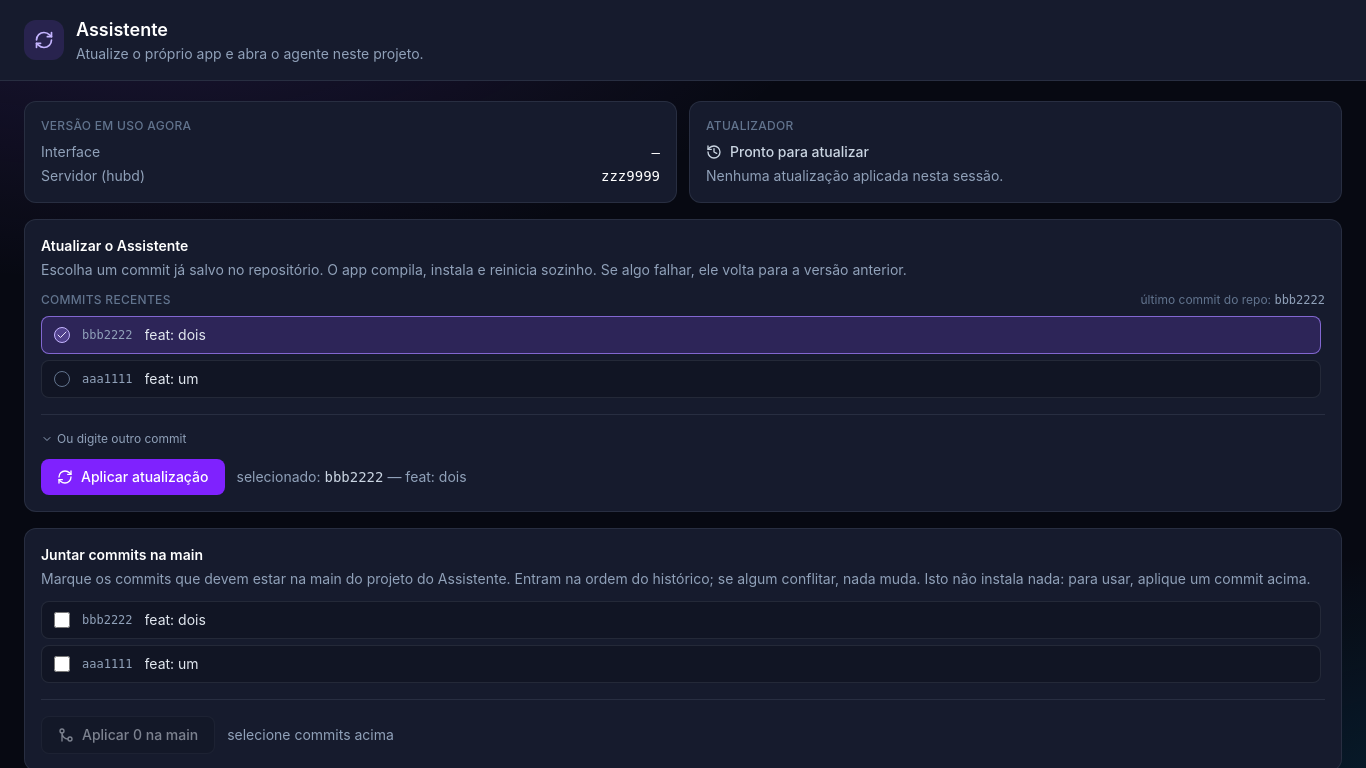
Test: AssistantPanel: juntar commits na main › manda os commits marcados, na ordem em que foram marcados, e avisa o novo topo
This screenshot has width=1366, height=768.
Click the checkbox labelled "bbb2222 feat: dois". click: coordinates (62, 620)
box: x1=54 y1=612 x2=70 y2=628
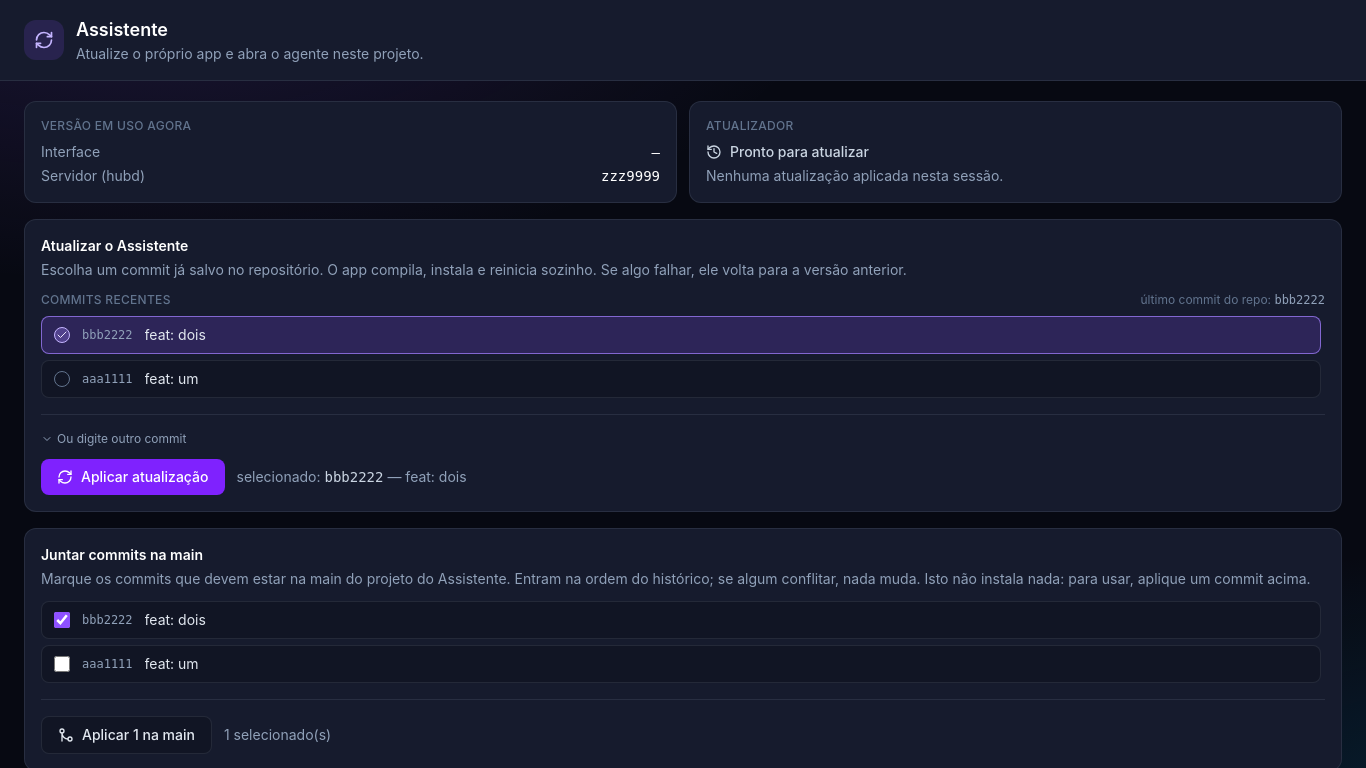
Click the checkbox labelled "aaa1111 feat: um". click: coordinates (62, 664)
box: x1=54 y1=656 x2=70 y2=672
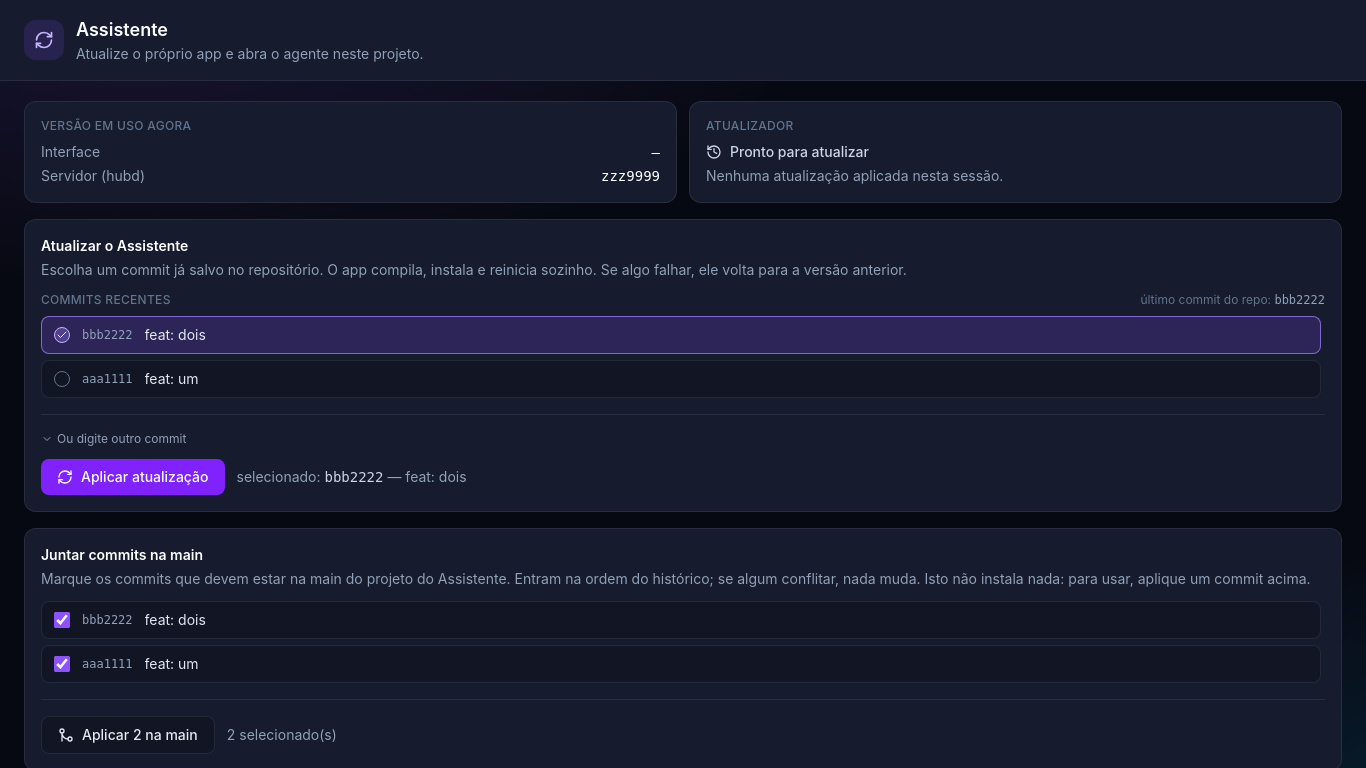
Click the button "Aplicar 2 na main". click: coordinates (128, 735)
box: x1=41 y1=716 x2=215 y2=754
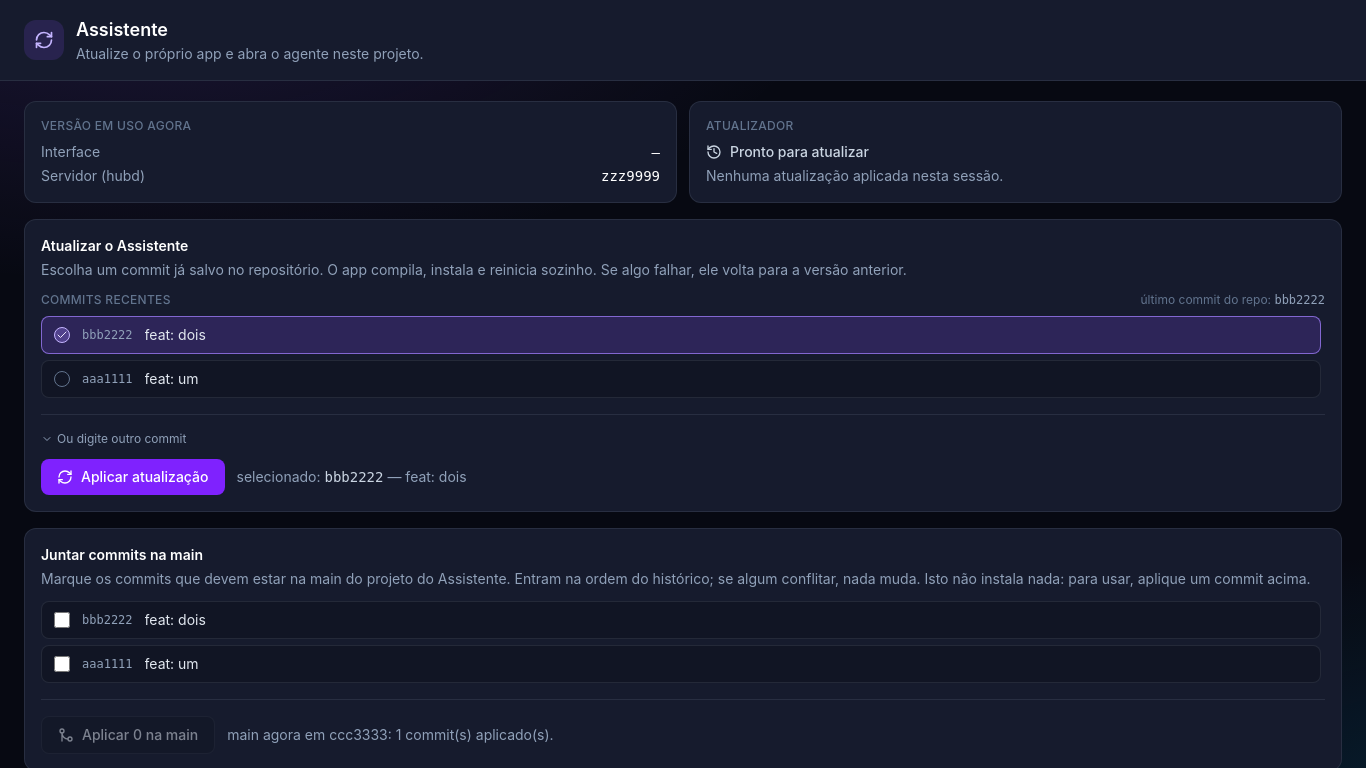
Expected: the text "main agora em ccc3333: 1 commit(s) aplicado(s)." is shown, x1=227 y1=725 x2=554 y2=745
Expected: the button "Aplicar 0 na main" is disabled, x1=41 y1=716 x2=215 y2=754
